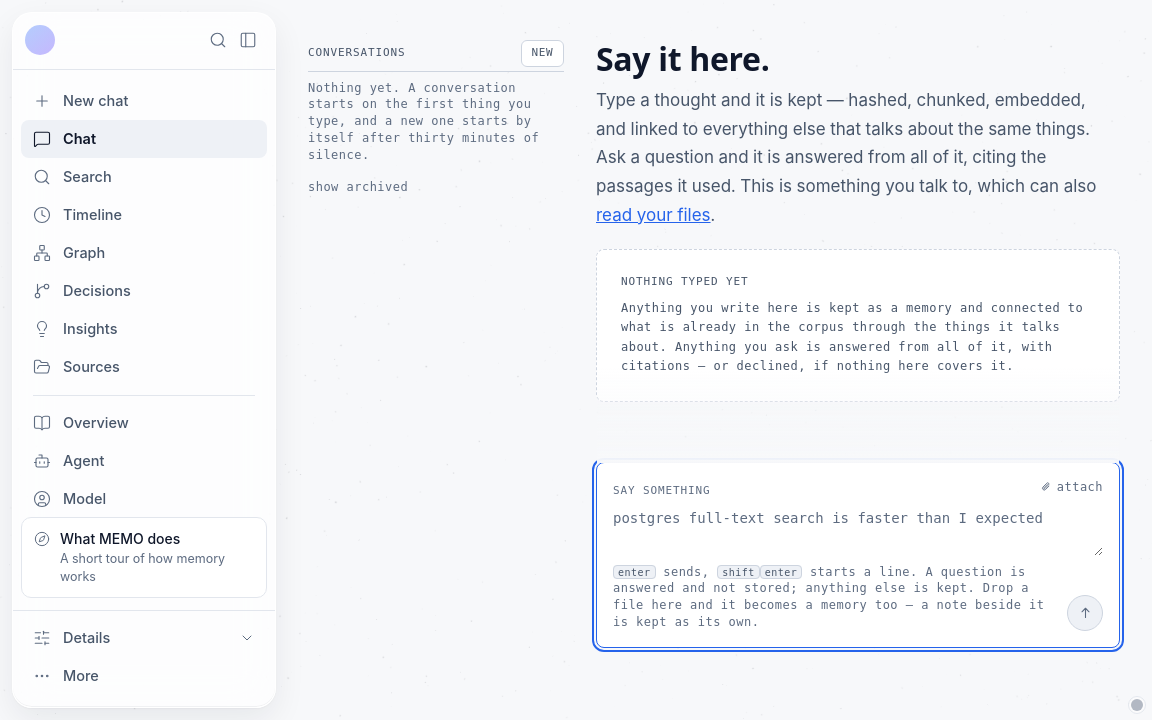
navigation › navigating to search renders the search view
Step 1. Click the link "Search" → point(72, 177), box [33,168,112,186]
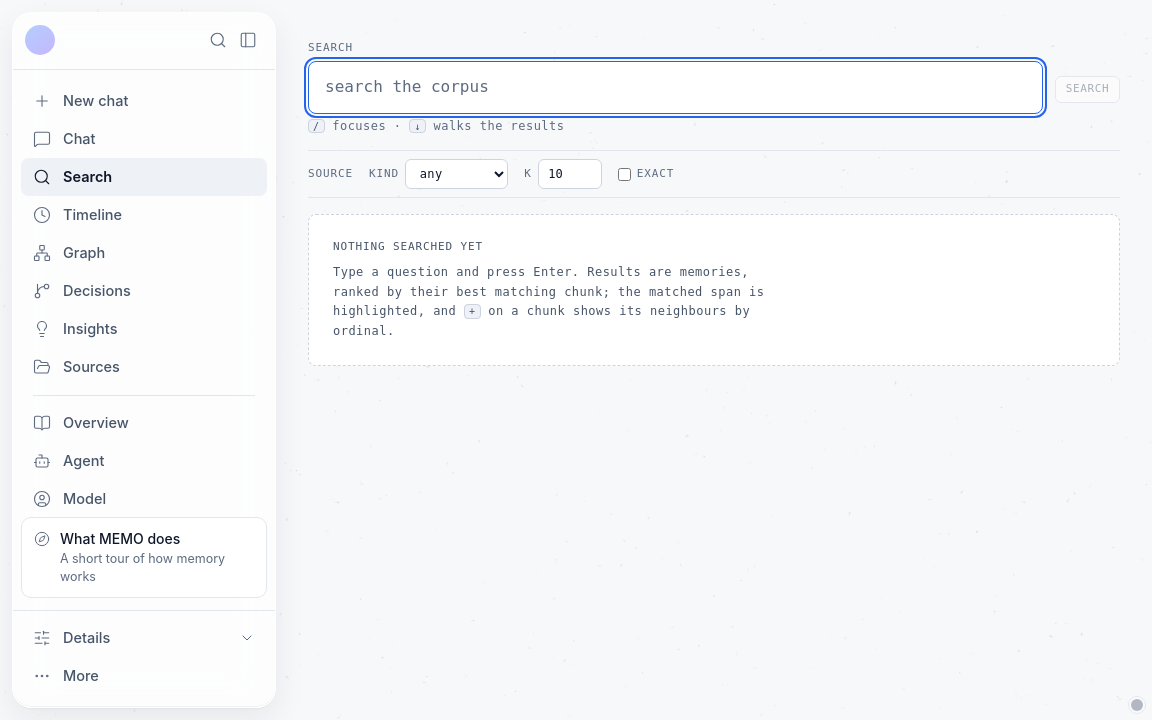
Now the text "nothing searched yet" is shown, box [333,240,483,253]
